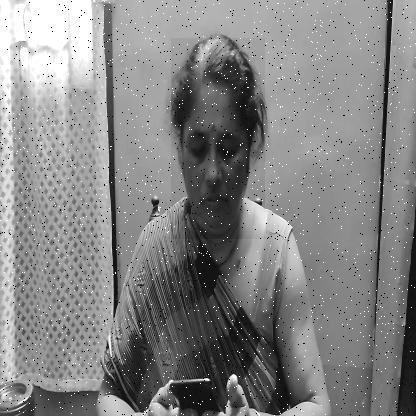Normal: (171, 38, 265, 239)
